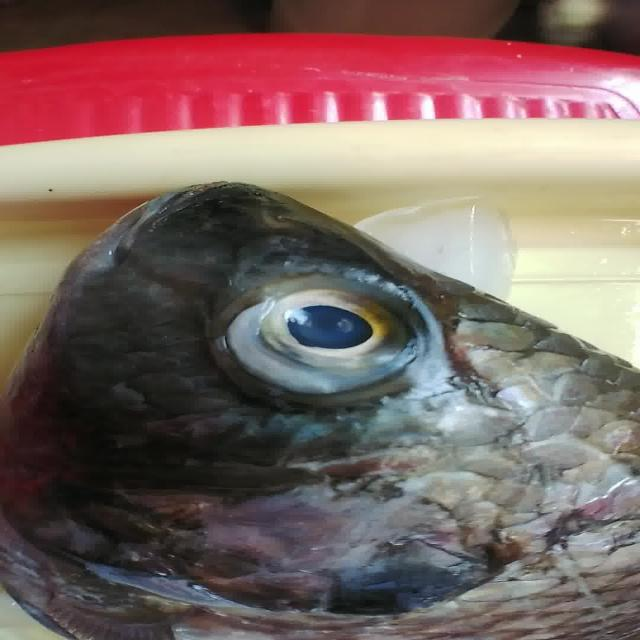Fresh: (190, 264, 459, 408)
